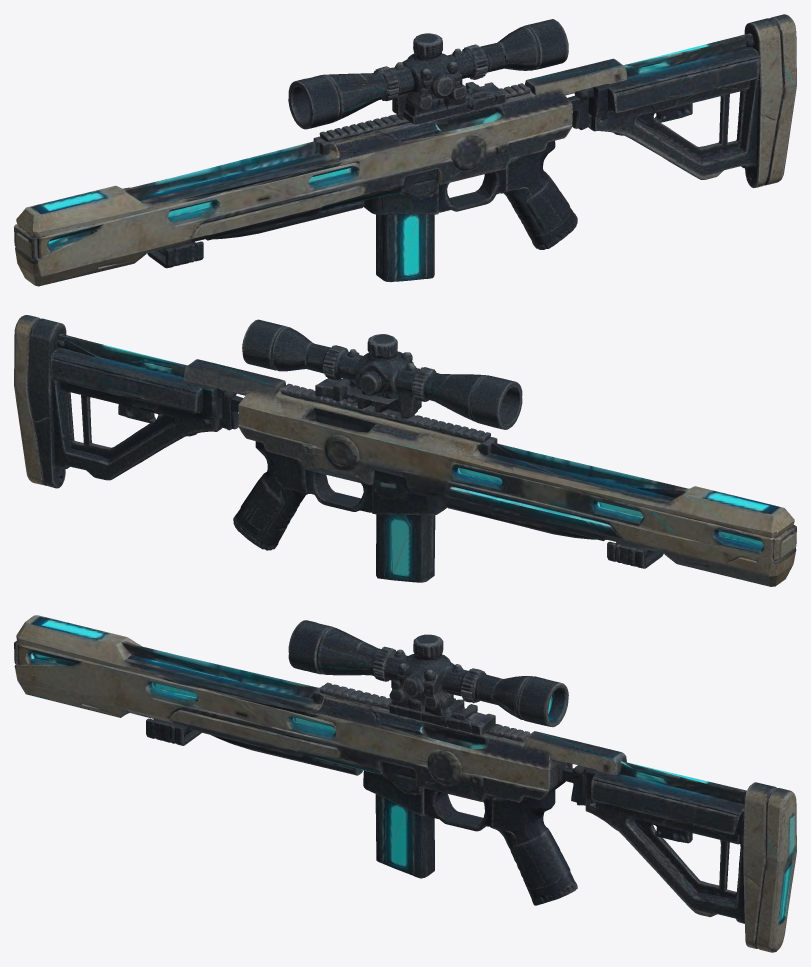
File: w_railsniper.glb
3 views of the same model, one above another, from view 1: azimuth 30°, elevation 25°; view 2: azimuth 150°, elevation 25°; view 3: azimuth 330°, elevation 25° (orthographic).
Parts seen in each view (by area): view 1: mesh_0; view 2: mesh_0; view 3: mesh_0.
Boxes of the visible parts, x1,y1,x2,y2 form: mesh_0: [14, 14, 796, 286]; mesh_0: [14, 315, 796, 586]; mesh_0: [14, 615, 796, 952].
Size of the model in its own units: 1.9 by 0.5604 by 0.1394.
Materials: 1 (1 with a texture image).
